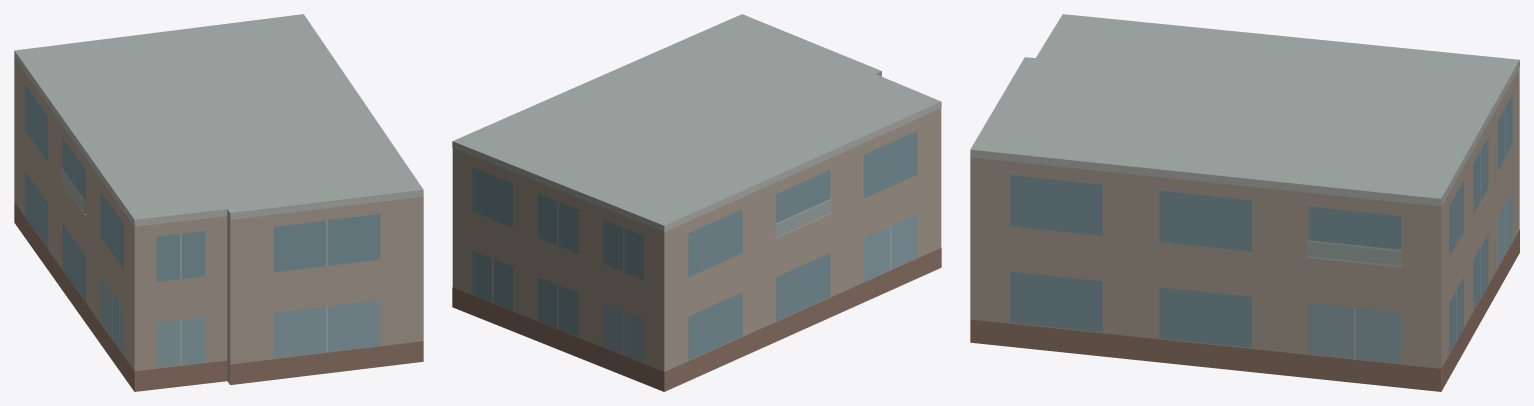
The model's file is survey-upis-32702119.glb.
3 renders of one model, left to right at view 1: azimuth 30°, elevation 25°; view 2: azimuth 150°, elevation 25°; view 3: azimuth 270°, elevation 25°, orthographic. The views are drawn at different scales.
Parts seen in each view (by area): view 1: survey-upis-32702119.tmp; view 2: survey-upis-32702119.tmp; view 3: survey-upis-32702119.tmp.
Part boxes in pixels (box(x1,y1,x2,y2)): survey-upis-32702119.tmp: box(14, 14, 423, 391); survey-upis-32702119.tmp: box(452, 14, 941, 391); survey-upis-32702119.tmp: box(970, 14, 1519, 391).
Bounding box in the file's own units: 12.55 × 6.1 × 15.76.
